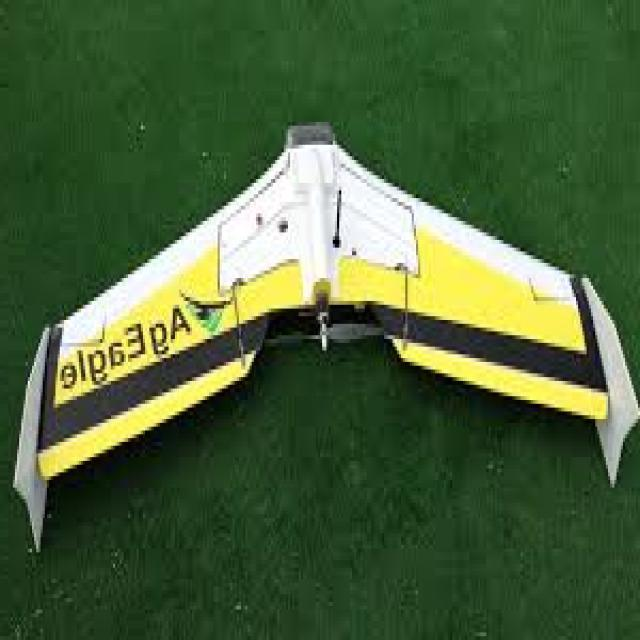UAV: (42, 126, 594, 512)
